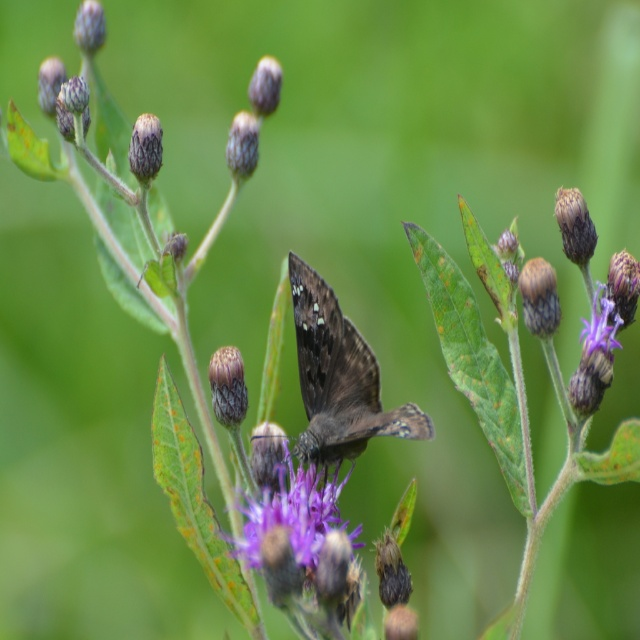Butterfly: (248, 256, 433, 525)
